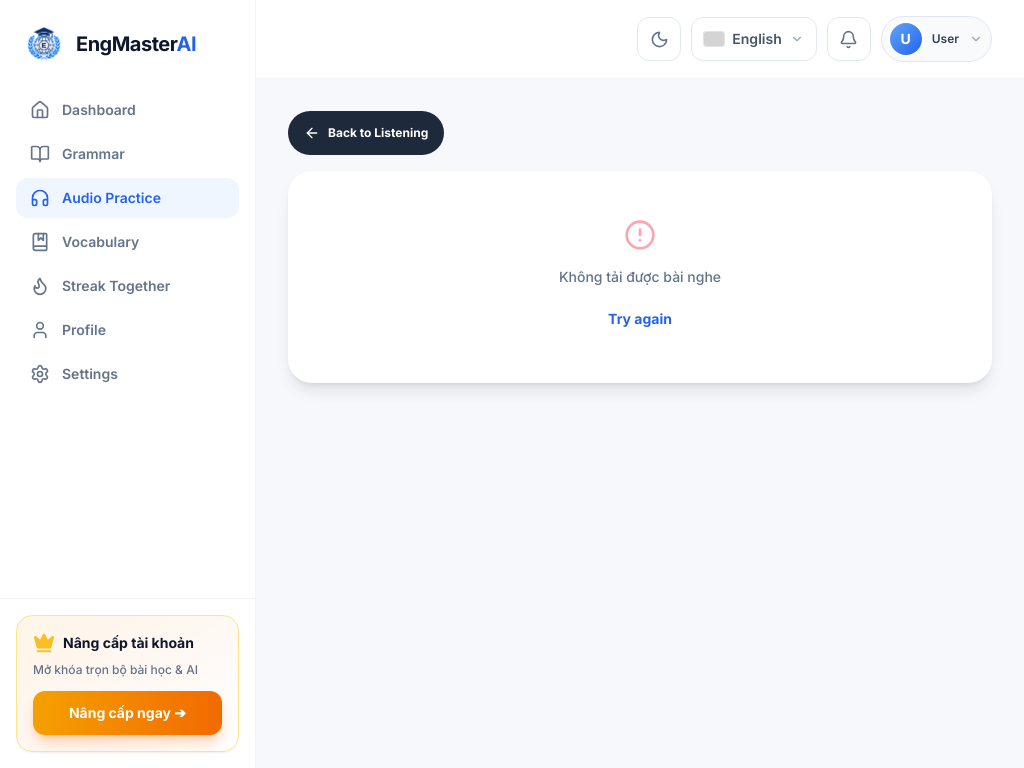
Test: ListeningContentPage — load states › distinguishes a server failure from a missing recording, and can retry
Check: the text "Không tải được bài nghe" is shown, box [559,268,721,285]
What coordinates should you click on to do the following:
click the button "Try again"
I would click on:
 (640, 319)
Its box is [596,303,684,335].
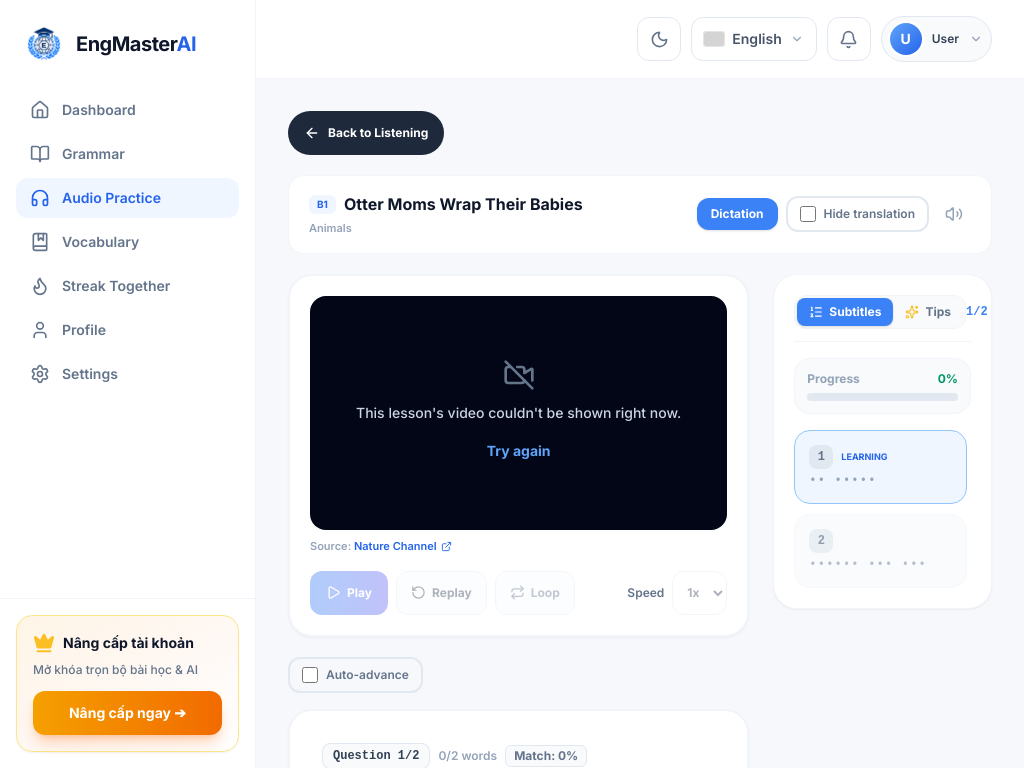
Check: the heading "Otter Moms Wrap Their Babies" is shown, box [344,192,583,216]
